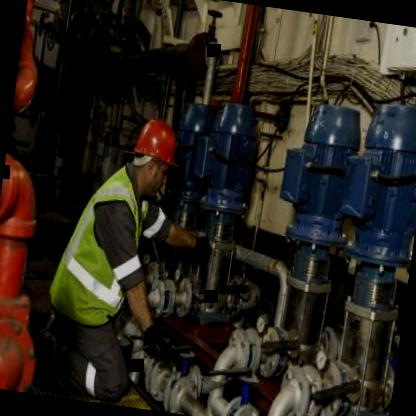helmet: (122, 111, 186, 203)
